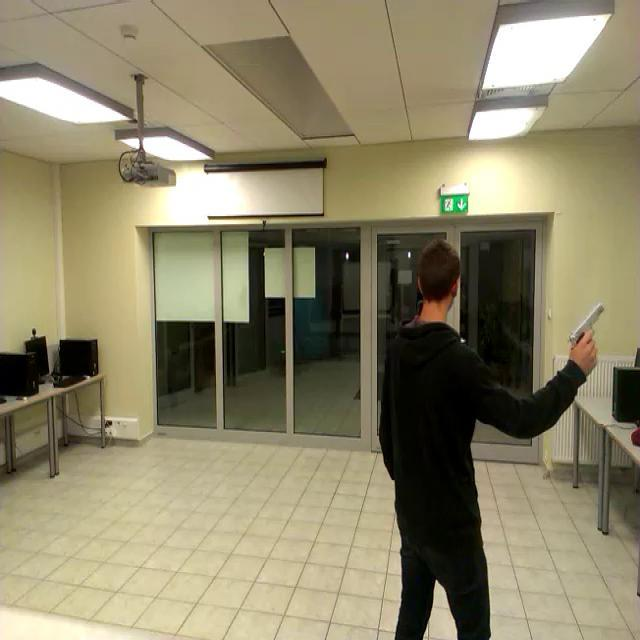Gun: (568, 301, 604, 359)
